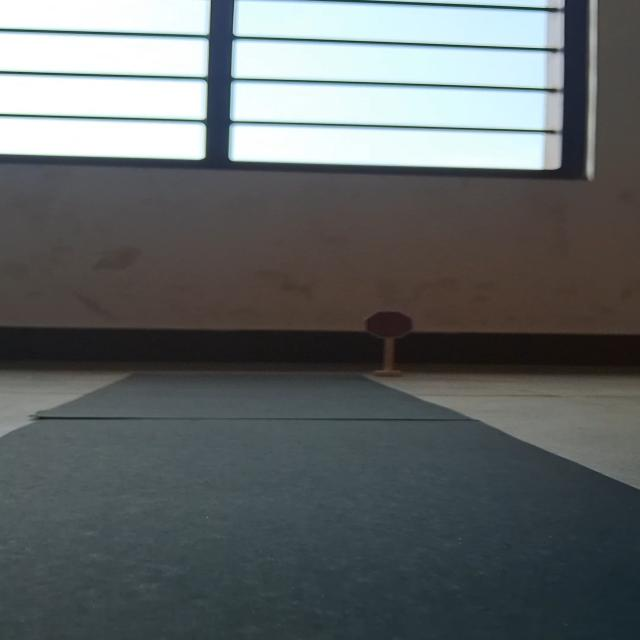Stop: (362, 310, 414, 340)
